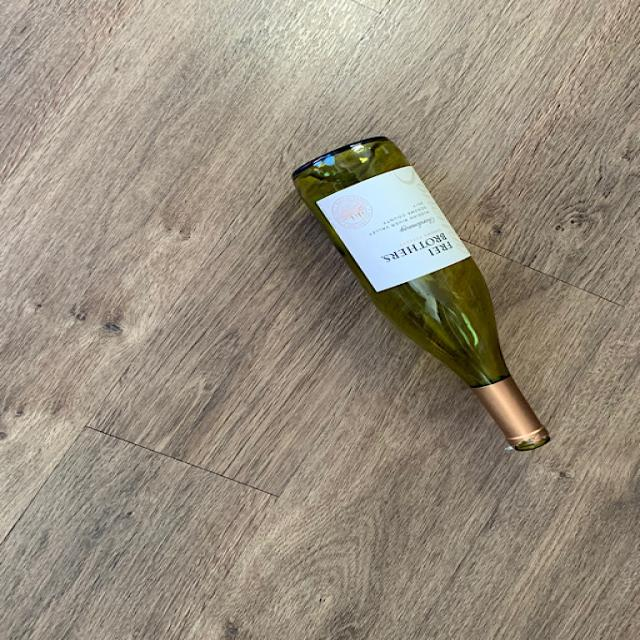Glass Bottle: (294, 133, 554, 455)
